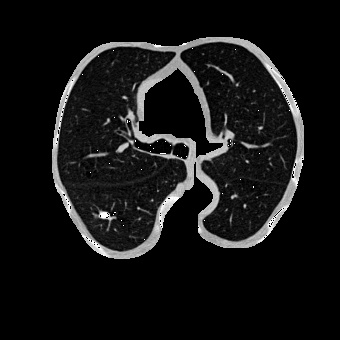PN: (97, 209, 109, 221)
